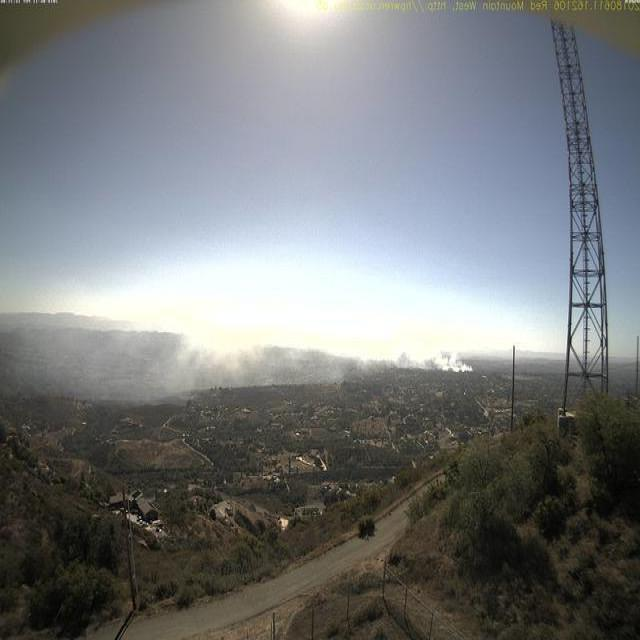Smoke: (174, 321, 476, 383)
